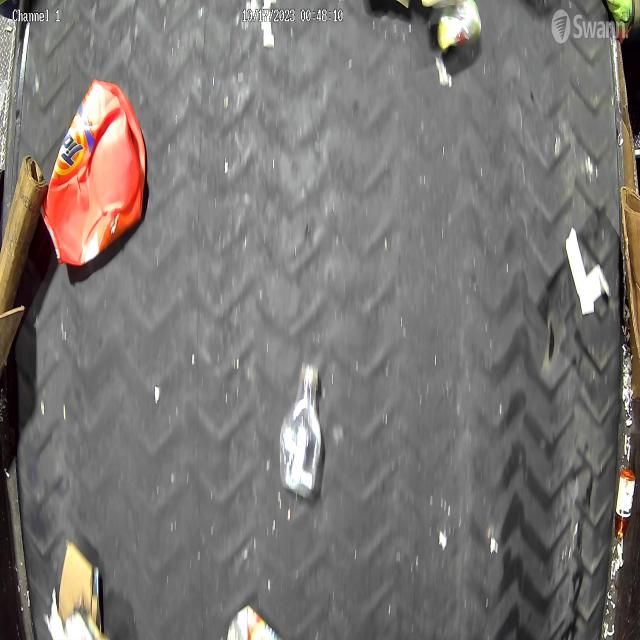non_white_jug: (43, 74, 147, 269)
plastic_bottle: (278, 360, 325, 500)
